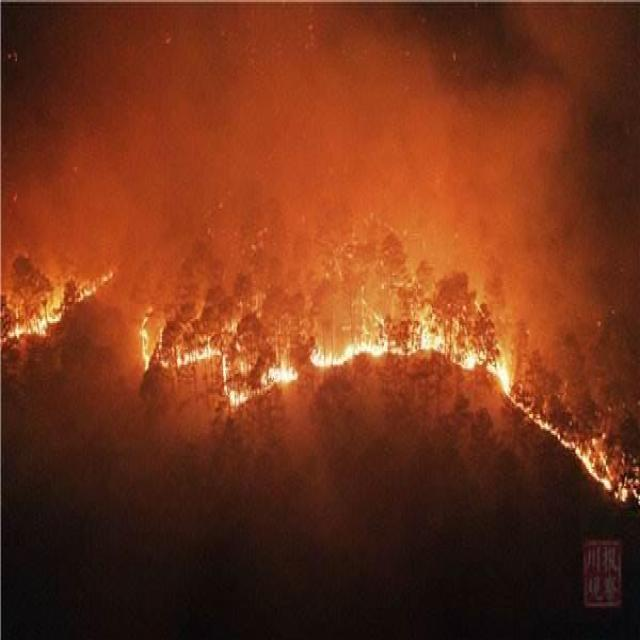fire: (135, 294, 548, 410), (510, 393, 638, 507), (5, 247, 116, 349)
